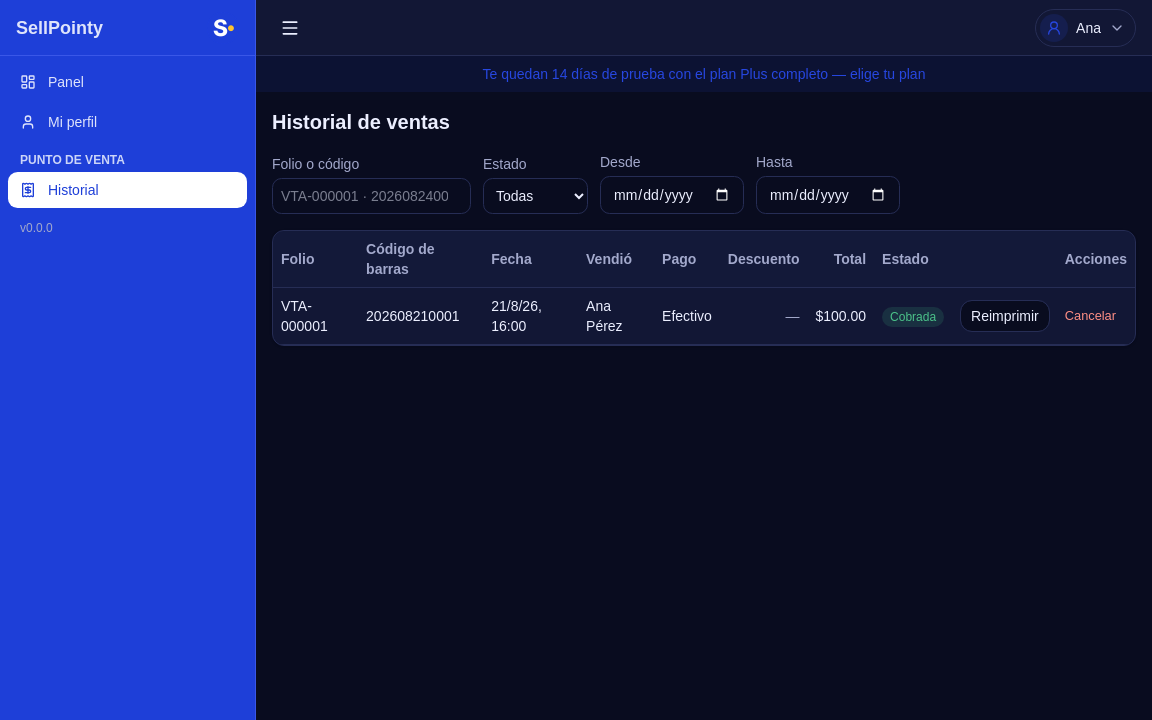
Scenario: Historial de ventas (F4-UI-03) › anular › sin motivo el confirmar está bloqueado
Expected: the text "VTA-000001" is shown, [273,288,358,344]
Click the button "Cancelar" at (1090, 316), box [1054,302,1127,330]
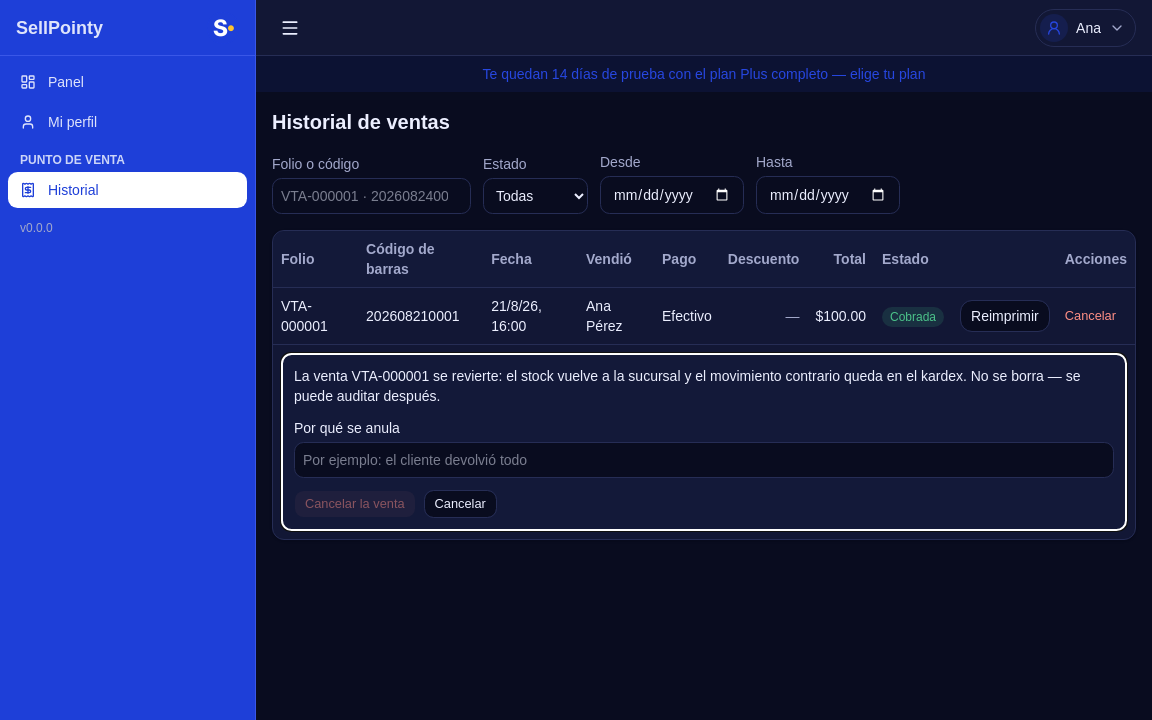
Expected: the button "Cancelar la venta" is disabled, [294,490,416,518]
